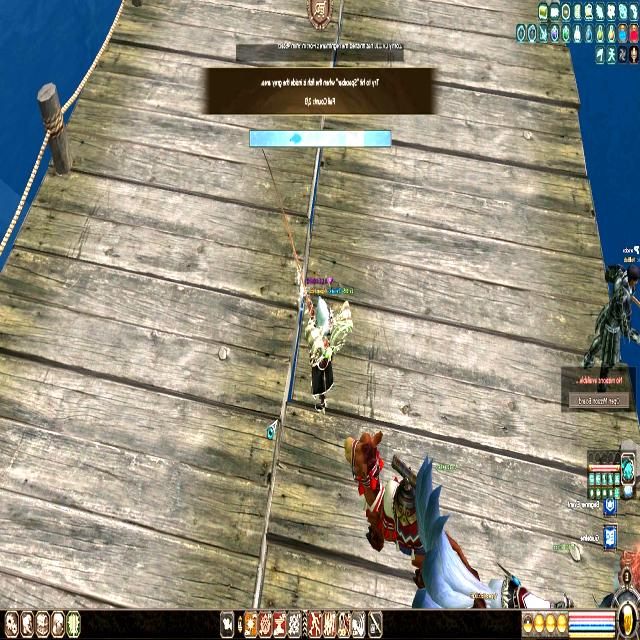fishes: (289, 132, 302, 146)
